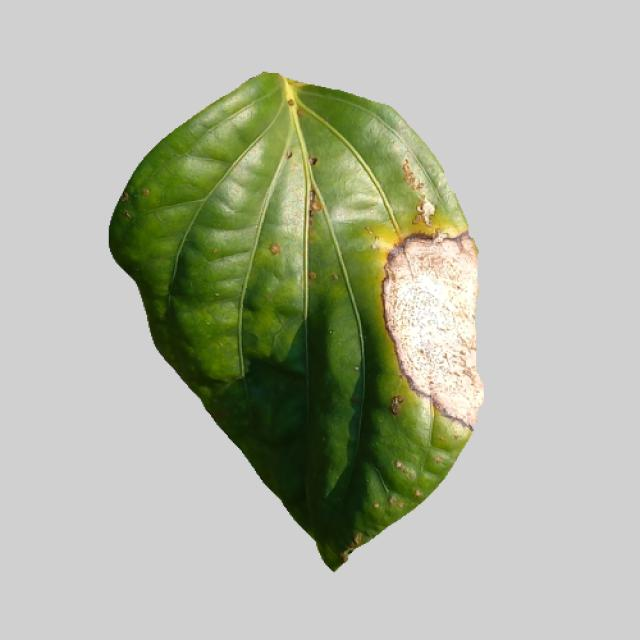leaf-blight: (87, 76, 503, 574)
